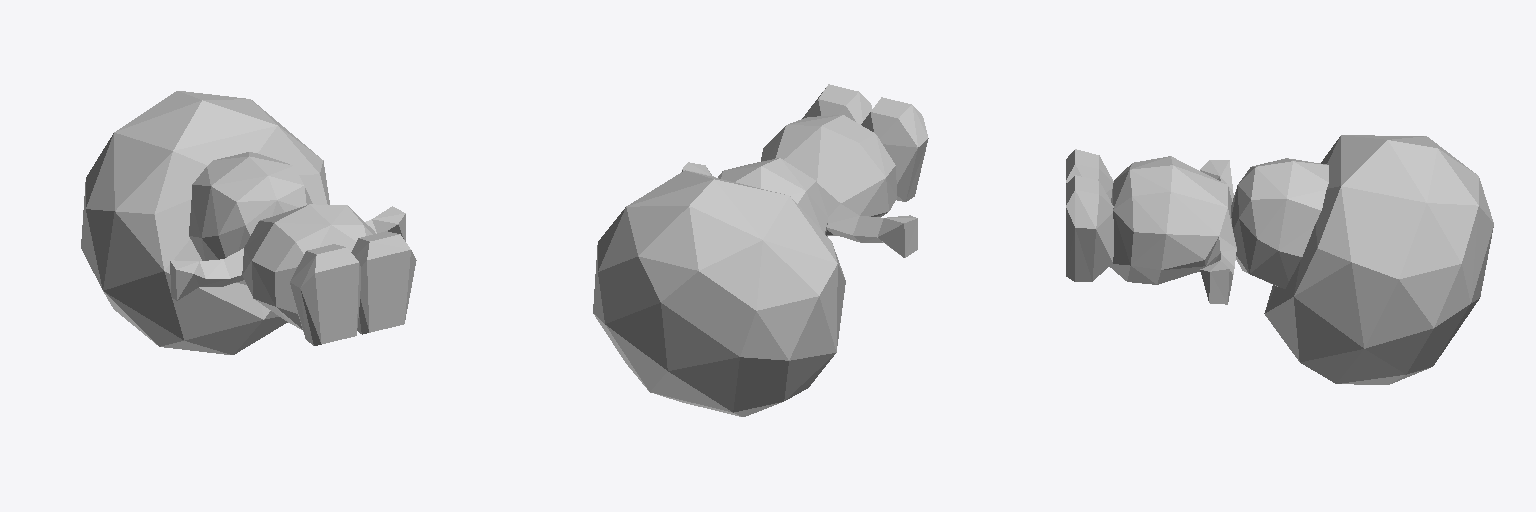
File: toad.obj
The picture shows the model from 3 angles: view 1: azimuth 30°, elevation 25°; view 2: azimuth 150°, elevation 25°; view 3: azimuth 270°, elevation 25°; orthographic projection.
Parts seen in each view (by area): view 1: skl_root-node; view 2: skl_root-node; view 3: skl_root-node.
Boxes of the visible parts, box(x1,y1,x2,y2) form: skl_root-node: box(81, 91, 416, 354); skl_root-node: box(593, 84, 928, 416); skl_root-node: box(1066, 135, 1493, 384).
Size of the model in its own units: 8 by 7.73 by 12.92.